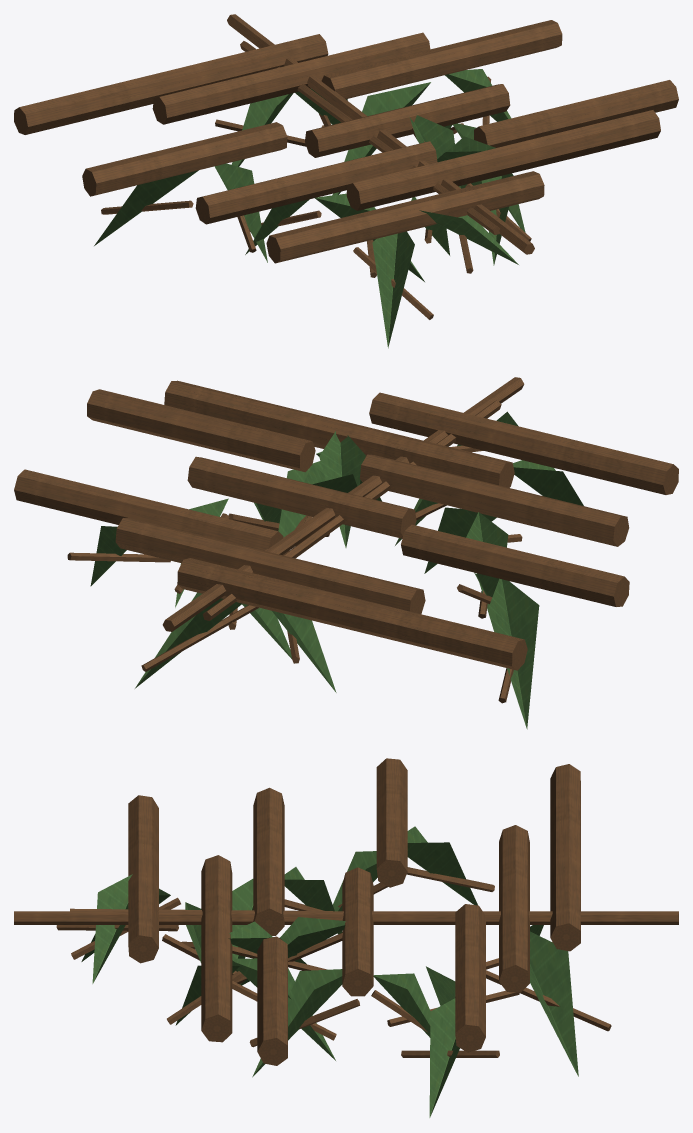
Rendered from en-015_cave_floor_debris_set__branches.obj.
3 views of the same model, one above another, from view 1: azimuth 30°, elevation 25°; view 2: azimuth 150°, elevation 25°; view 3: azimuth 270°, elevation 25° (orthographic). The views are drawn at different scales.
Visible parts, largest first — view 1: en-015_cave_floor_debris_set__branches; view 2: en-015_cave_floor_debris_set__branches; view 3: en-015_cave_floor_debris_set__branches.
Boxes of the visible parts, x1,y1,x2,y2 form: en-015_cave_floor_debris_set__branches: [14, 14, 678, 348]; en-015_cave_floor_debris_set__branches: [14, 377, 678, 729]; en-015_cave_floor_debris_set__branches: [14, 758, 678, 1117].
Bounding box in the file's own units: 1.16 × 0.2583 × 1.16.
Materials: 2 (2 with a texture image).
